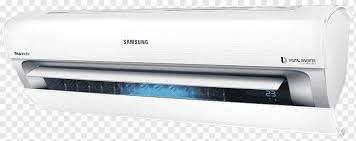ac: (2, 7, 354, 111)
